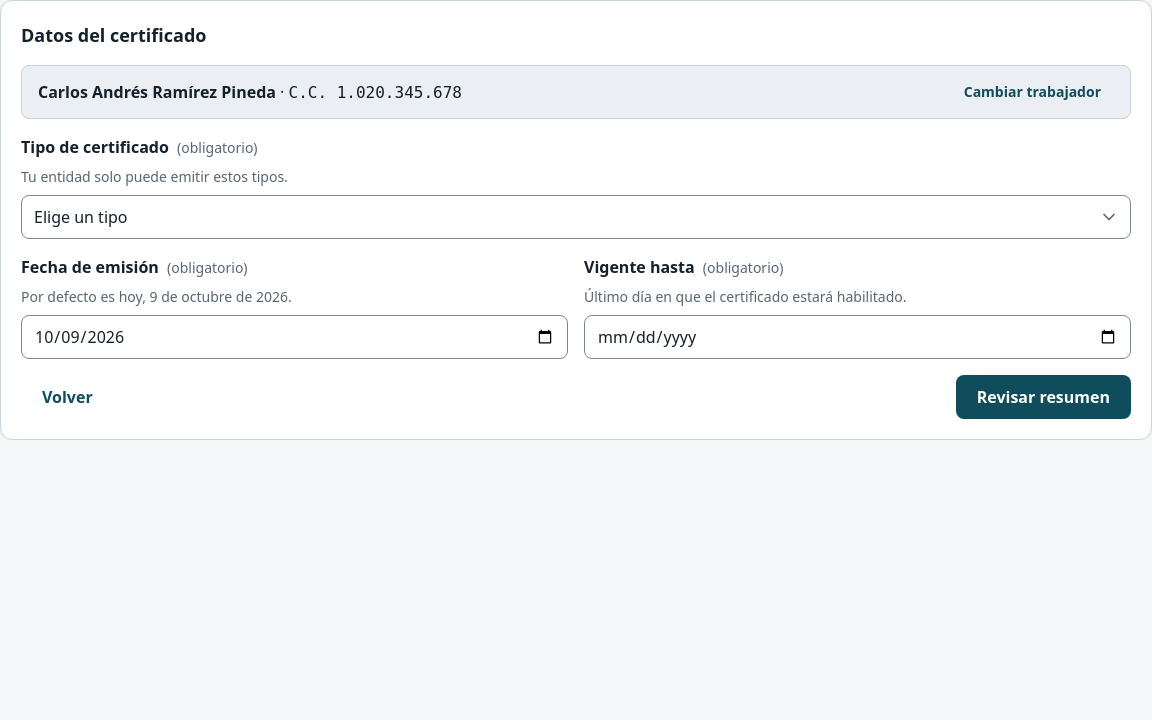
Test case: DetailsStep › unblocks when the type changes to one the worker does not have
Select "Trabajo en alturas" in the dropdown labelled "Tipo de certificado (obligatorio)" at (576, 217), box [21,195,1131,239]
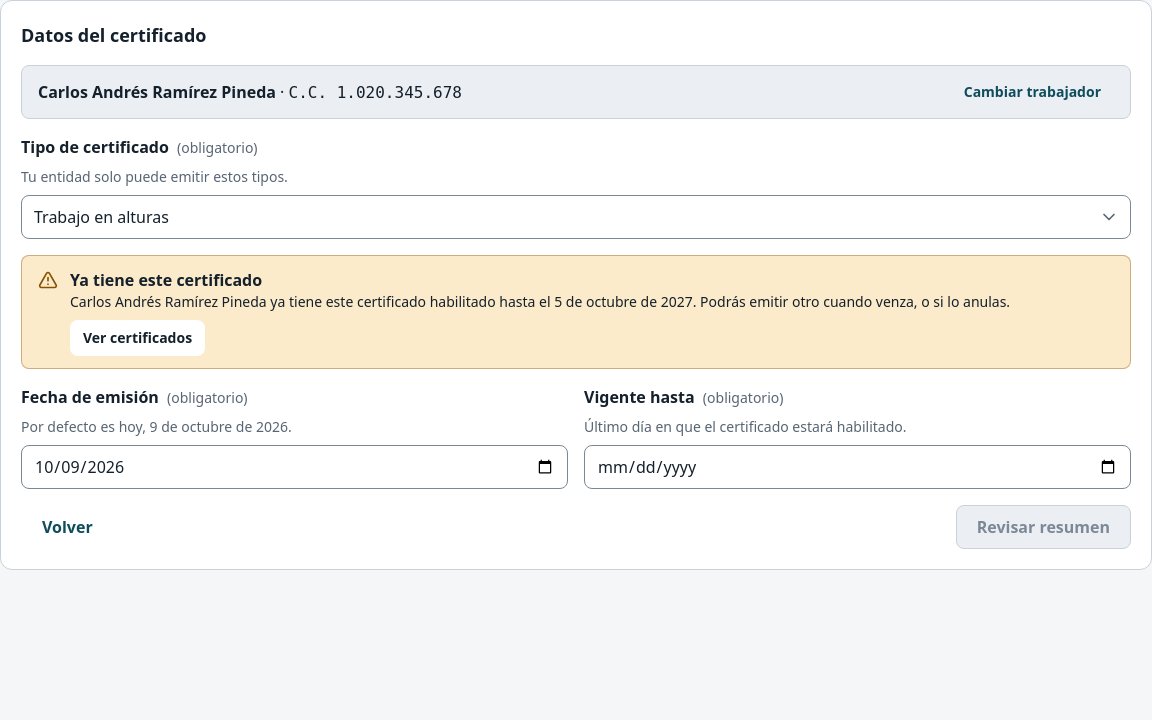
Check: the button "Revisar resumen" is disabled, box [956,505,1131,549]
Select "Espacios confinados" in the dropdown labelled "Tipo de certificado (obligatorio)" at (576, 217), box [21,195,1131,239]
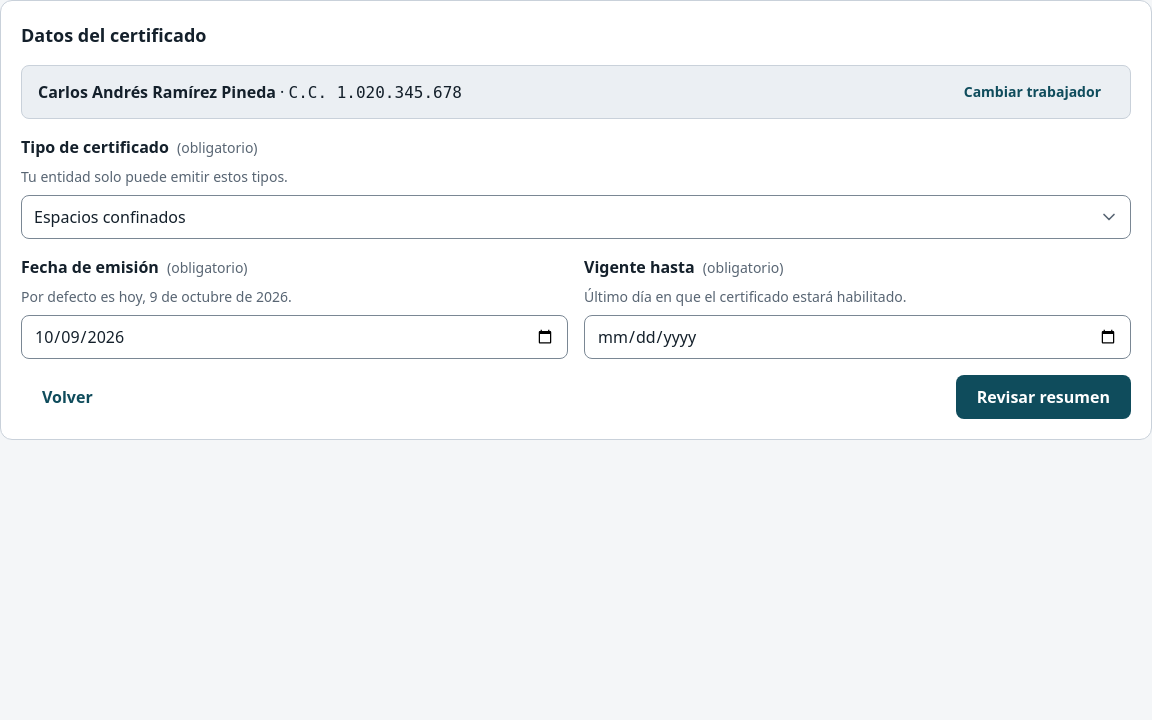
Check: the button "Revisar resumen" is enabled, box [956,375,1131,419]
